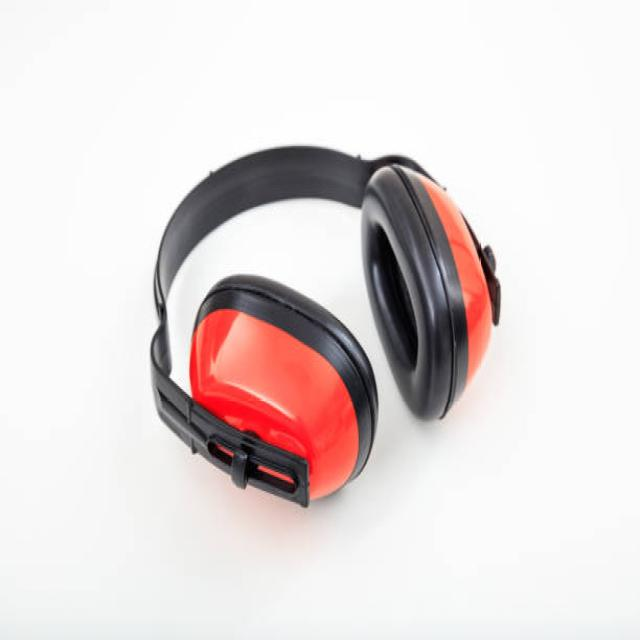Ear-protection: (130, 120, 522, 502)
